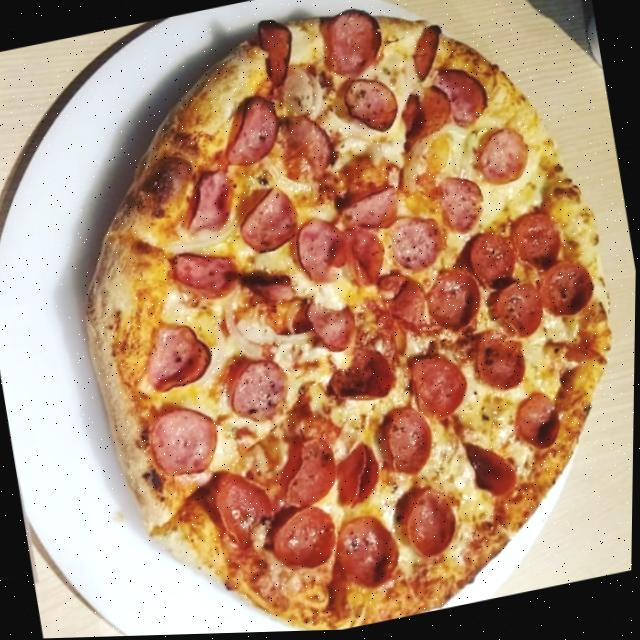pepperoni: (327, 506, 407, 600), (144, 401, 230, 485), (139, 313, 223, 398), (269, 427, 350, 514), (209, 463, 281, 557), (266, 497, 346, 580), (212, 89, 290, 173), (318, 341, 404, 415), (394, 481, 465, 568), (232, 180, 306, 263), (270, 108, 344, 190), (313, 4, 388, 81), (404, 349, 476, 429), (464, 323, 534, 402), (419, 263, 488, 343), (375, 402, 441, 484), (222, 355, 295, 429), (326, 434, 391, 516), (529, 255, 601, 329), (167, 243, 248, 308), (430, 172, 501, 246), (381, 205, 451, 280), (484, 276, 554, 351), (289, 214, 357, 290), (374, 263, 437, 345), (508, 385, 575, 461), (469, 123, 539, 195), (335, 69, 404, 142), (175, 166, 242, 239), (299, 289, 364, 363), (334, 178, 408, 242), (434, 61, 496, 136), (502, 210, 569, 279), (248, 14, 304, 94), (464, 227, 525, 300), (391, 83, 459, 148), (464, 437, 523, 509), (340, 222, 391, 297), (402, 25, 452, 88), (545, 331, 602, 382), (241, 268, 301, 312)
pizza: (37, 0, 640, 639)
